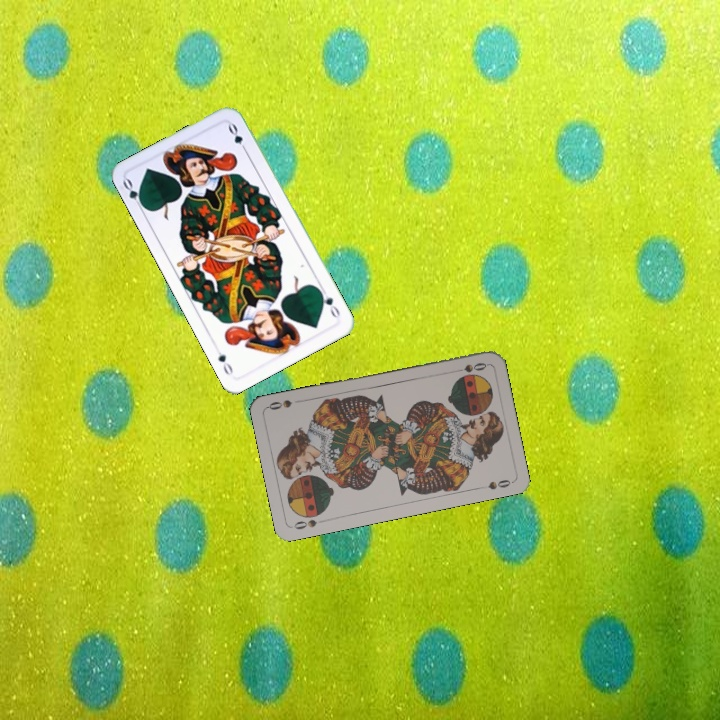GO: (118, 175, 148, 213), (315, 286, 343, 322)
SO: (449, 358, 489, 375), (290, 515, 329, 532)
